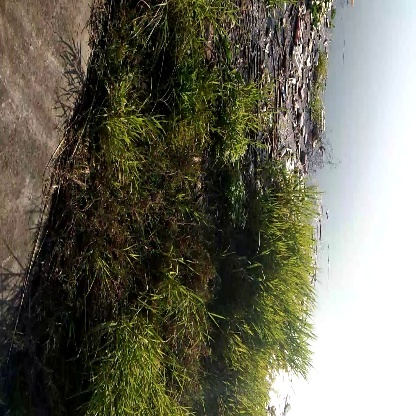grass: (259, 208, 311, 354)
